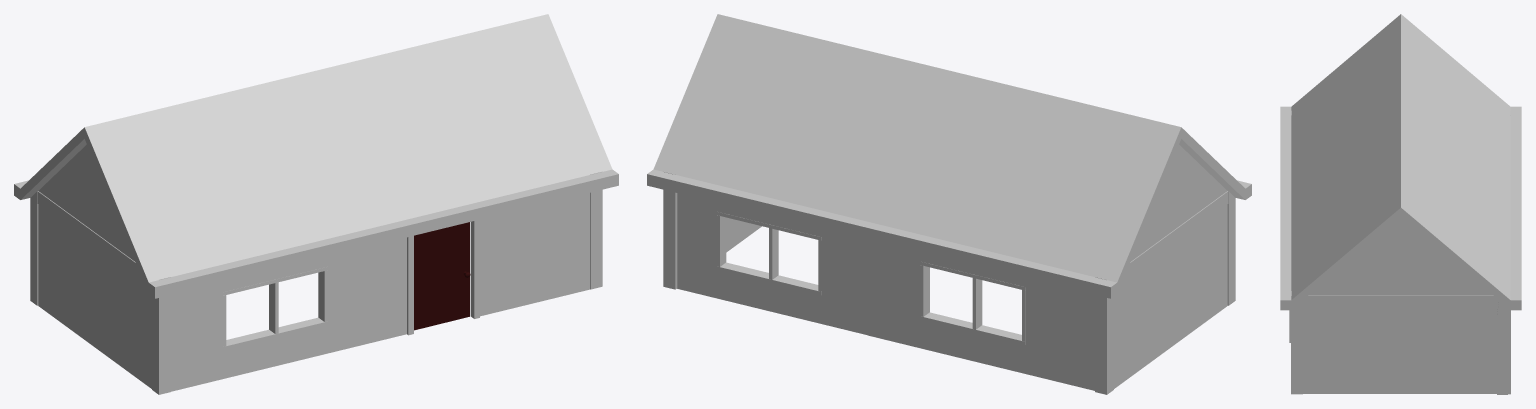
Rendered from LongHouse.dae.
3 views of the same model, side by side, from view 1: azimuth 30°, elevation 25°; view 2: azimuth 150°, elevation 25°; view 3: azimuth 270°, elevation 25° (orthographic). The views are drawn at different scales.
Visible parts, largest first — view 1: Cube_031; view 2: Cube_031; view 3: Cube_031.
Part boxes in pixels (x1,y1,x2,y2): Cube_031: (14,14,618,394); Cube_031: (647,14,1251,394); Cube_031: (1280,14,1521,394).
Bounding box in the file's own units: 42 × 22.12 × 19.38.
